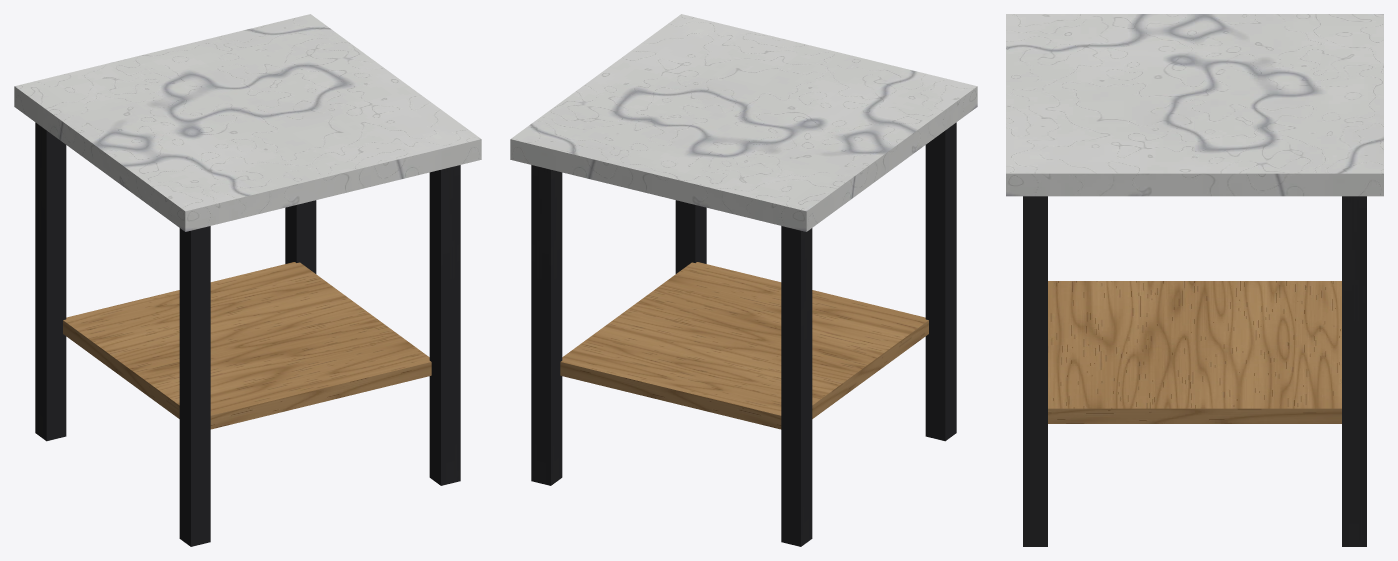
The picture shows the model from 3 angles, left to right: view 1: azimuth 30°, elevation 25°; view 2: azimuth 150°, elevation 25°; view 3: azimuth 270°, elevation 25°; orthographic projection. The views are drawn at different scales.
Visible parts, largest first — view 1: SideTable_Game; view 2: SideTable_Game; view 3: SideTable_Game.
Boxes of the visible parts, x1,y1,x2,y2 form: SideTable_Game: (14,14,481,546); SideTable_Game: (510,14,977,546); SideTable_Game: (1006,14,1383,546).
Bounding box in the file's own units: 0.45 × 0.5 × 0.45.
Materials: 3 (3 with a texture image).
